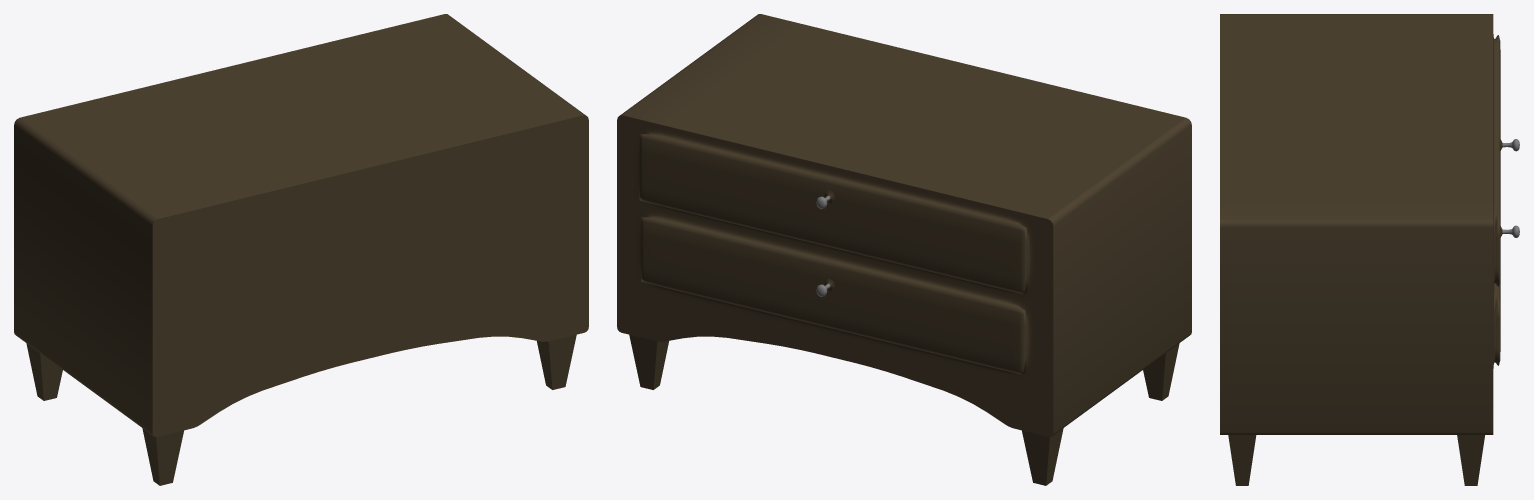
The model's file is PROJECT DREAM - Bedroom - Dresser.fbx.
The picture shows the model from 3 angles, left to right: view 1: azimuth 30°, elevation 25°; view 2: azimuth 150°, elevation 25°; view 3: azimuth 270°, elevation 25°; orthographic projection.
Parts seen in each view (by area): view 1: Bedroom - Dresser; view 2: Bedroom - Dresser; view 3: Bedroom - Dresser.
Boxes of the visible parts, bbox=[...] form: Bedroom - Dresser: bbox=[14, 14, 588, 485]; Bedroom - Dresser: bbox=[617, 14, 1191, 485]; Bedroom - Dresser: bbox=[1220, 14, 1519, 485].
Bounding box in the file's own units: 200 × 121 × 121.
